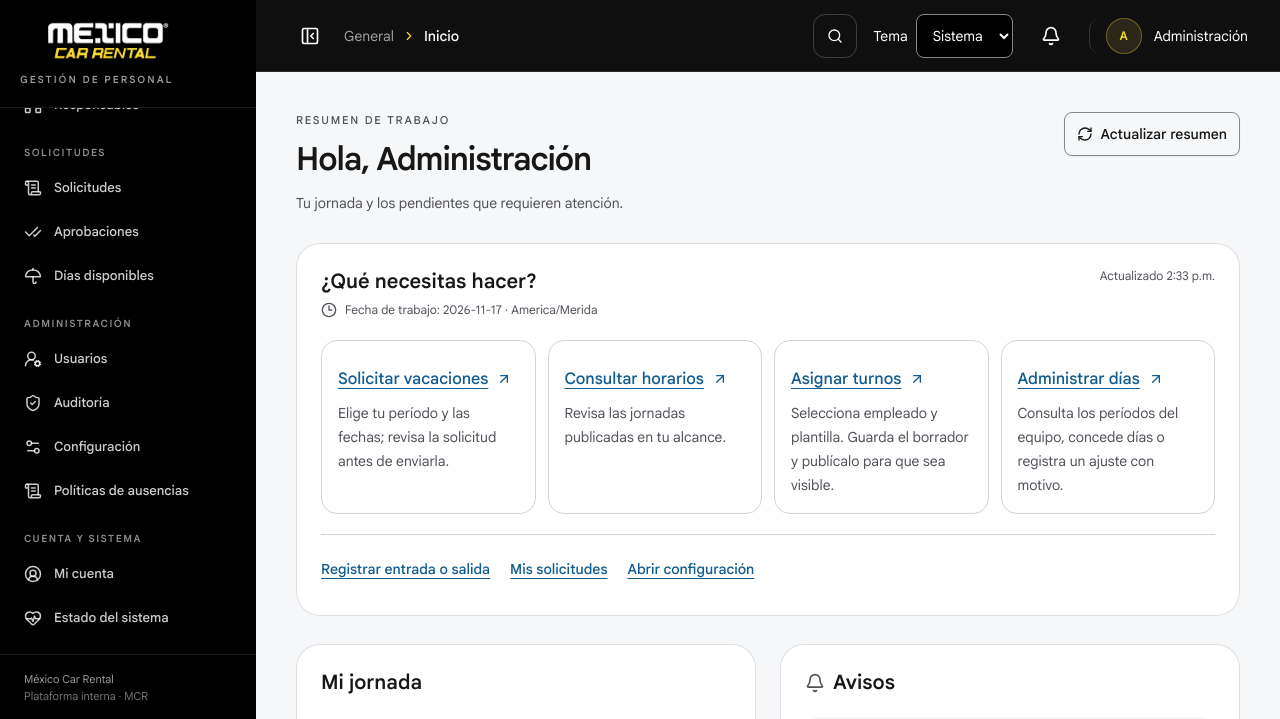
Test case: navegación de la aplicación › permite navegación y retroceso sin recargar la aplicación
This screenshot has width=1280, height=719.
Later steps or results of the test are not shown.
(page scrolled)
Step 1. Click the link "Estado del sistema" → {"x": 96, "y": 618}, box [24, 609, 169, 627]
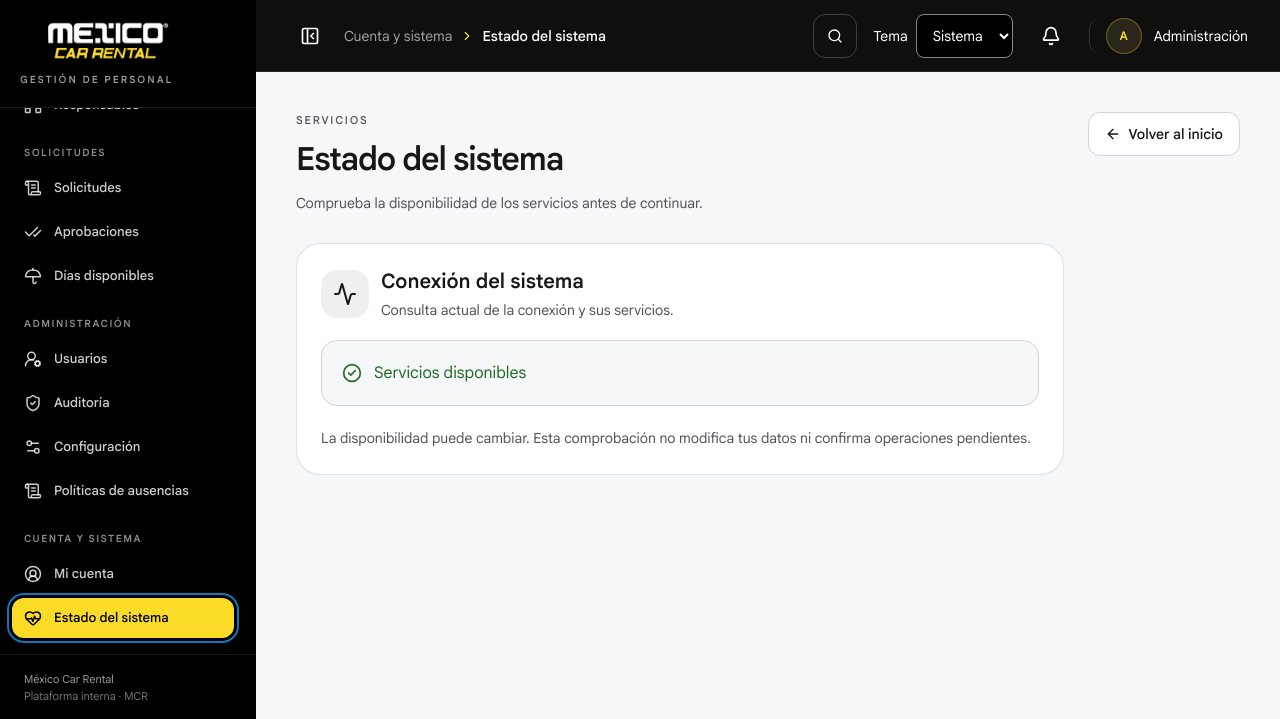
Now the heading "Estado del sistema" is shown, box [296, 138, 563, 178]
